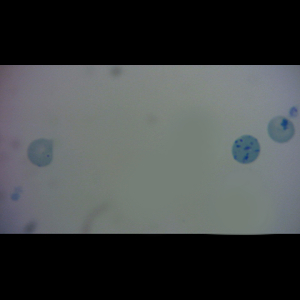aggregate reticulocyte: (231, 133, 261, 165)
erythrocyte: (266, 114, 297, 145)
punctate reticulocyte: (25, 136, 56, 169)
